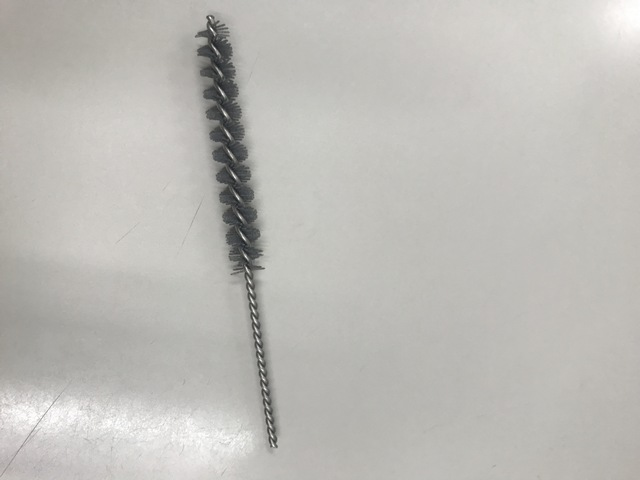Twist Brush-A: (194, 12, 282, 449)
